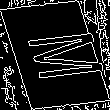M_E: (7, 27, 103, 83)
